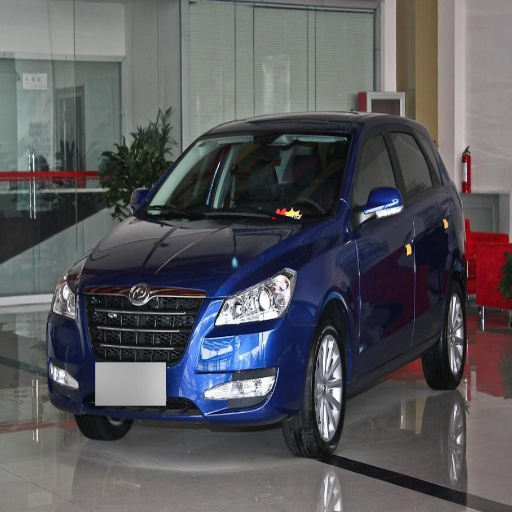front_bumper: (51, 270, 313, 427)
front_glass: (138, 129, 359, 222)
front_left_door: (353, 124, 414, 370)
